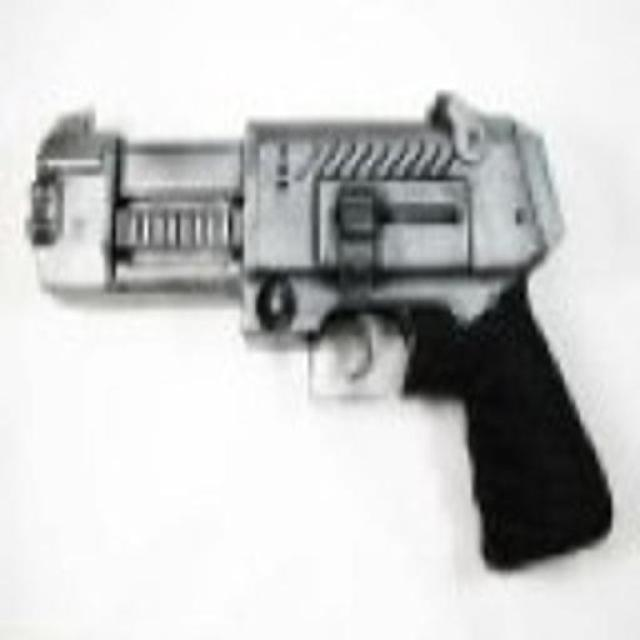pistol: (31, 106, 615, 570)
